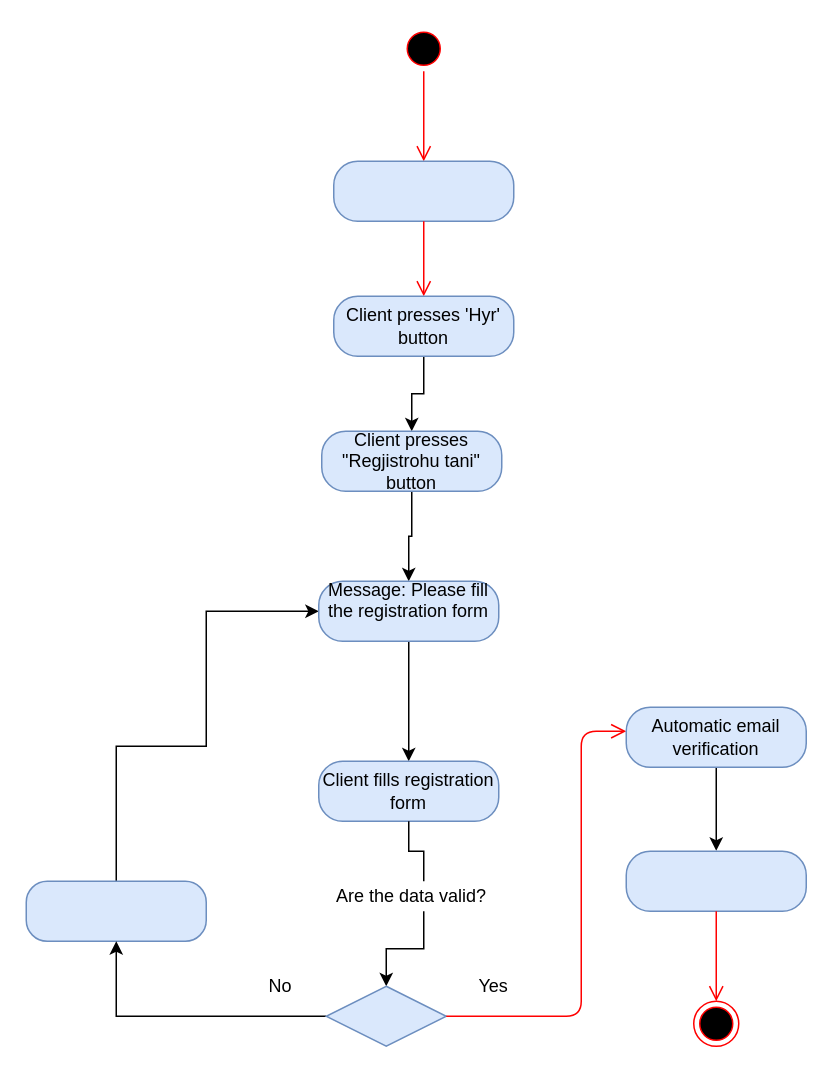
The diagram is 833 pixels wide and 1073 high, and some of its shapes have lost their labels. The centre of each missing label's shape, as x and y in pixels:
"client redirects to his profile" goes at pixel 715 880.
"Client visits application" goes at pixel 423 190.
"Message: Invalid data input, retry again" goes at pixel 115 910.
